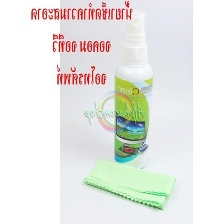cleaning_solution: (110, 9, 157, 172)
